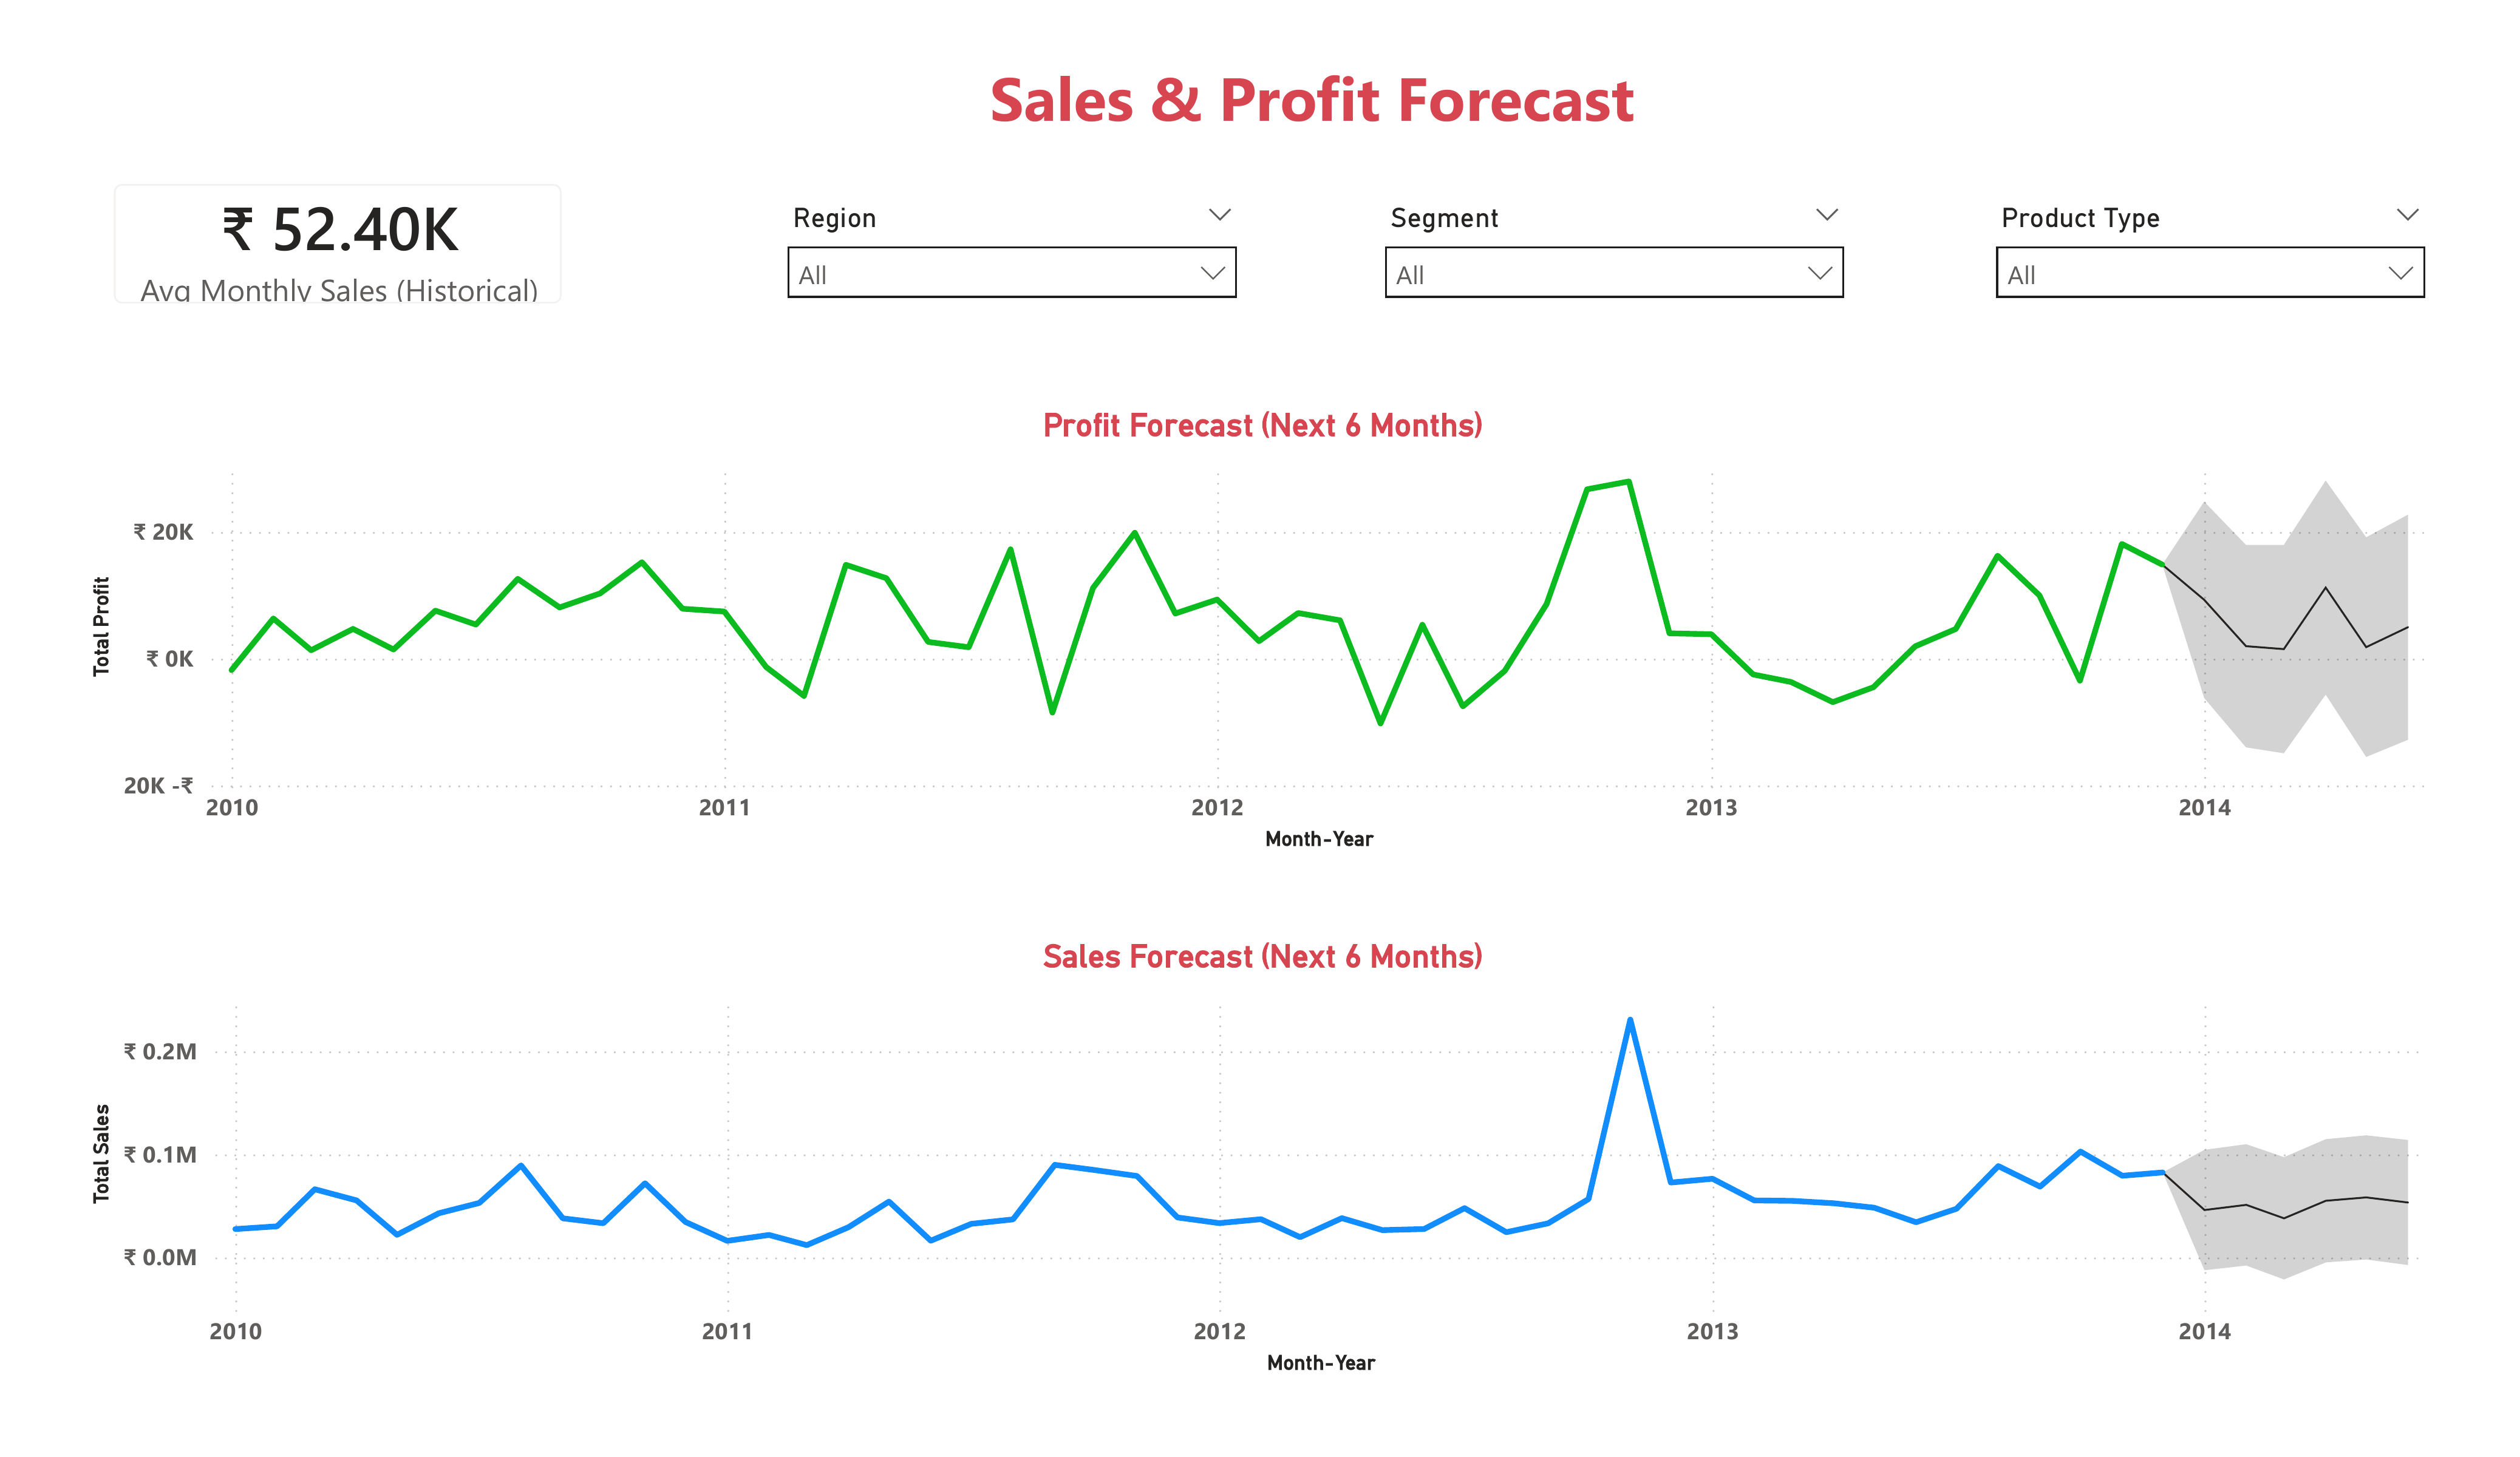

The dashboard page shown, as its layout file describes it:
{"tool":"powerbi","page":{"name":"Forecast","canvas":[1280,720],"ordinal":4},"visuals":[{"type":"lineChart","title":"Sales Forecast (Next 6 Months)","fields":{"Y":["Measure.Total Sales"],"Category":["Dim_Date.Month Start Date"]},"box":[19.1,470.2,1244.6,235.1],"z":0},{"type":"lineChart","title":"Profit Forecast (Next 6 Months)","fields":{"Category":["Dim_Date.Month Start Date"],"Y":["Measure.Total Profit"]},"box":[19.1,189.6,1244.6,239.5],"z":1000},{"type":"slicer","fields":{"Values":["Dim_Customer.Segment"]},"box":[696.5,77.9,261.6,86.7],"z":2000},{"type":"slicer","fields":{"Values":["Dim_Geography.Region"]},"box":[380.6,77.9,257.1,86.7],"z":3000},{"type":"slicer","fields":{"Values":["Dim_Product.Product Type"]},"box":[1018.3,77.9,245.4,86.7],"z":4000},{"type":"cardVisual","fields":{"Data":["Measure.Avg Monthly Sales (Historical)"]},"box":[19.1,55.8,270.4,97],"z":5000},{"type":"textbox","box":[42.6,0,1190.2,55.8],"z":6000}]}

Visuals, with their boxes on the page's 1280x720 design canvas (x1, y1, x2, y2). These are canvas units, not pixel positions in the 2520x1457 screenshot, which may show the page scaled, cropped or inside an application window:
"Sales Forecast (Next 6 Months)" lineChart: [left=19, top=470, right=1264, bottom=705]
"Profit Forecast (Next 6 Months)" lineChart: [left=19, top=190, right=1264, bottom=429]
slicer - Dim_Customer.Segment: [left=696, top=78, right=958, bottom=165]
slicer - Dim_Geography.Region: [left=381, top=78, right=638, bottom=165]
slicer - Dim_Product.Product Type: [left=1018, top=78, right=1264, bottom=165]
cardVisual - Measure.Avg Monthly Sales (Historical): [left=19, top=56, right=290, bottom=153]
textbox: [left=43, top=0, right=1233, bottom=56]
